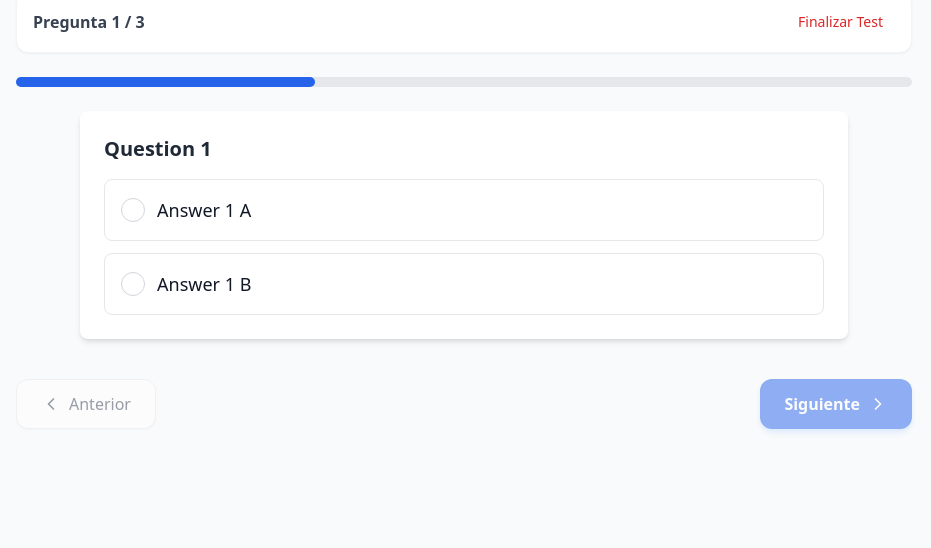
Test: Immediate feedback navigation › cancels pending advancement after manual navigation and allows reviewing previous answers
The image size is (931, 548).
Click the button "Answer 1 A" at (204, 210), box [104, 179, 824, 241]
Wait 1000 ms
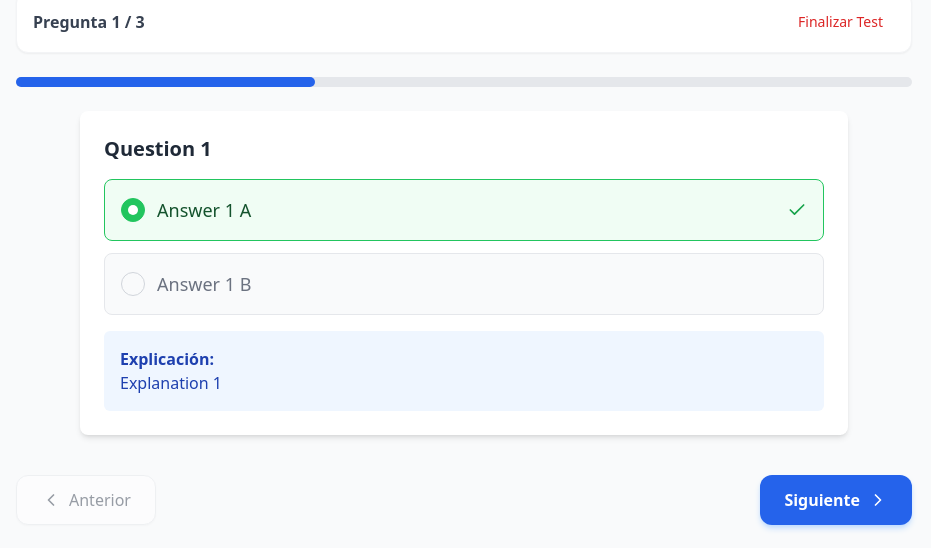
Click the button "Siguiente" at (836, 500), box [760, 475, 912, 525]
Wait 2000 ms
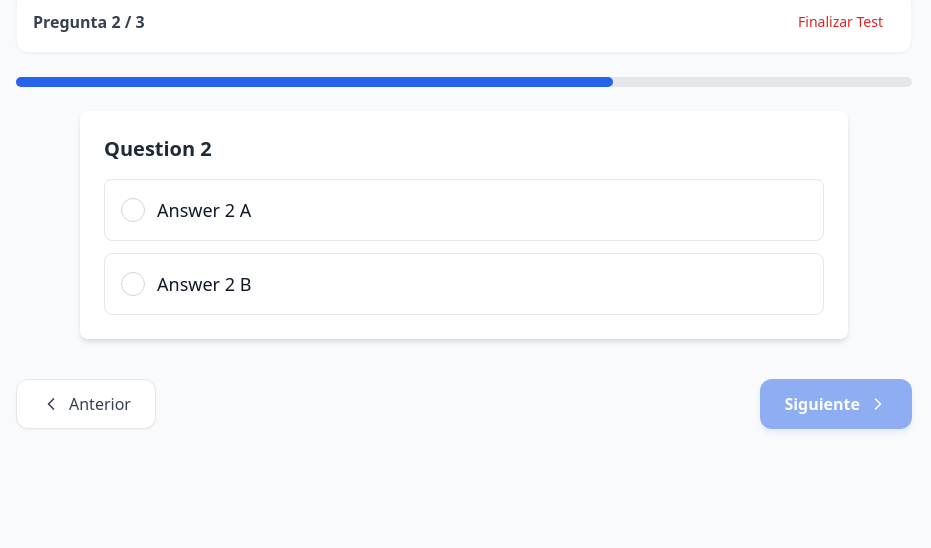
Check: the heading "Question 2" is shown, box [104, 135, 212, 162]
Click the button "Anterior" at (86, 404), box [16, 379, 156, 429]
Wait 3000 ms
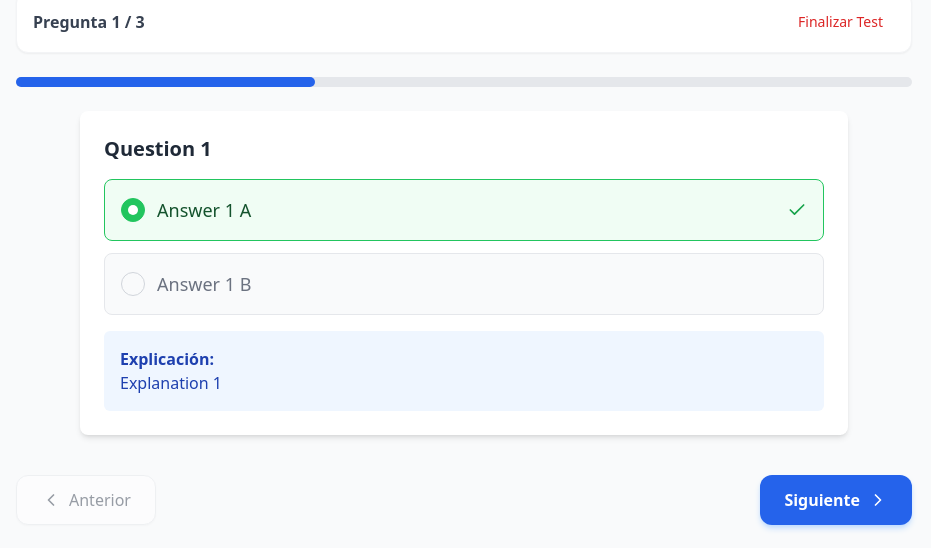
Check: the heading "Question 1" is shown, box [104, 135, 212, 162]
